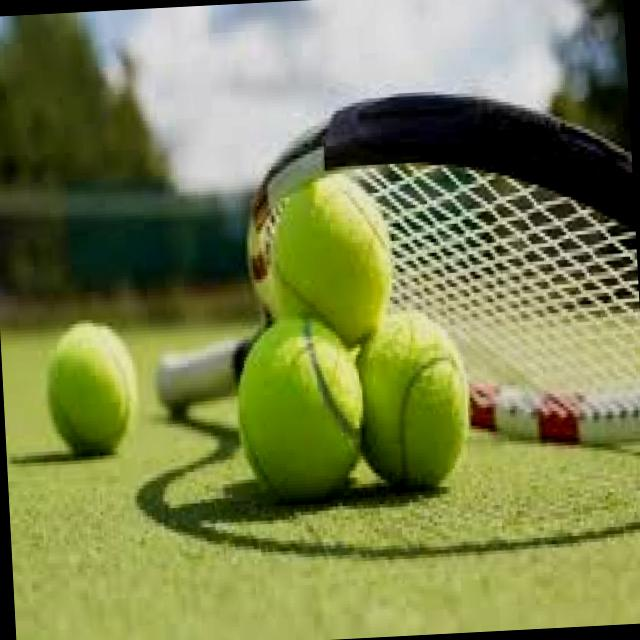Tennis Ball: (236, 316, 368, 502), (272, 170, 400, 351), (355, 309, 472, 494), (45, 320, 136, 455)
